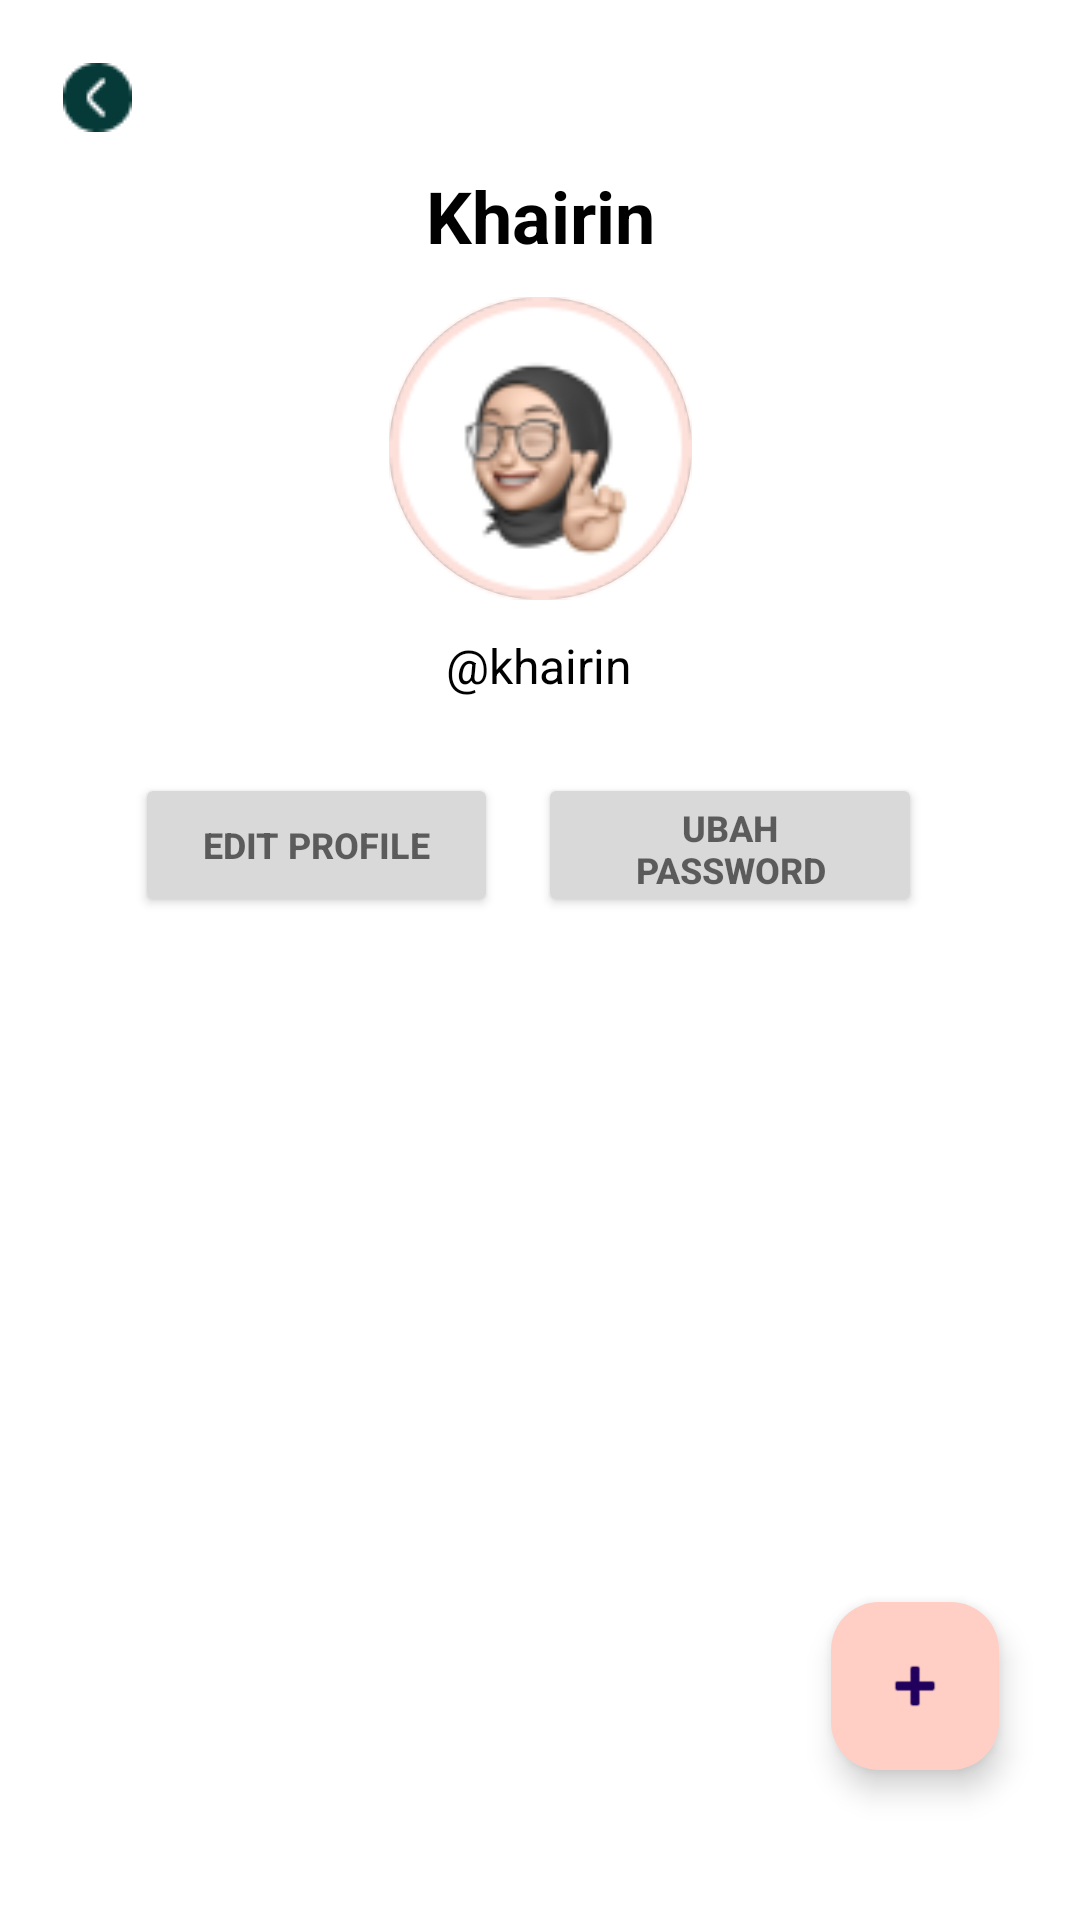

Icon click points for this 1080px x 1920px phone screenshot, format point (x, y):
add: point (915, 1686)
back: point (97, 97)
profile: point (540, 448)
